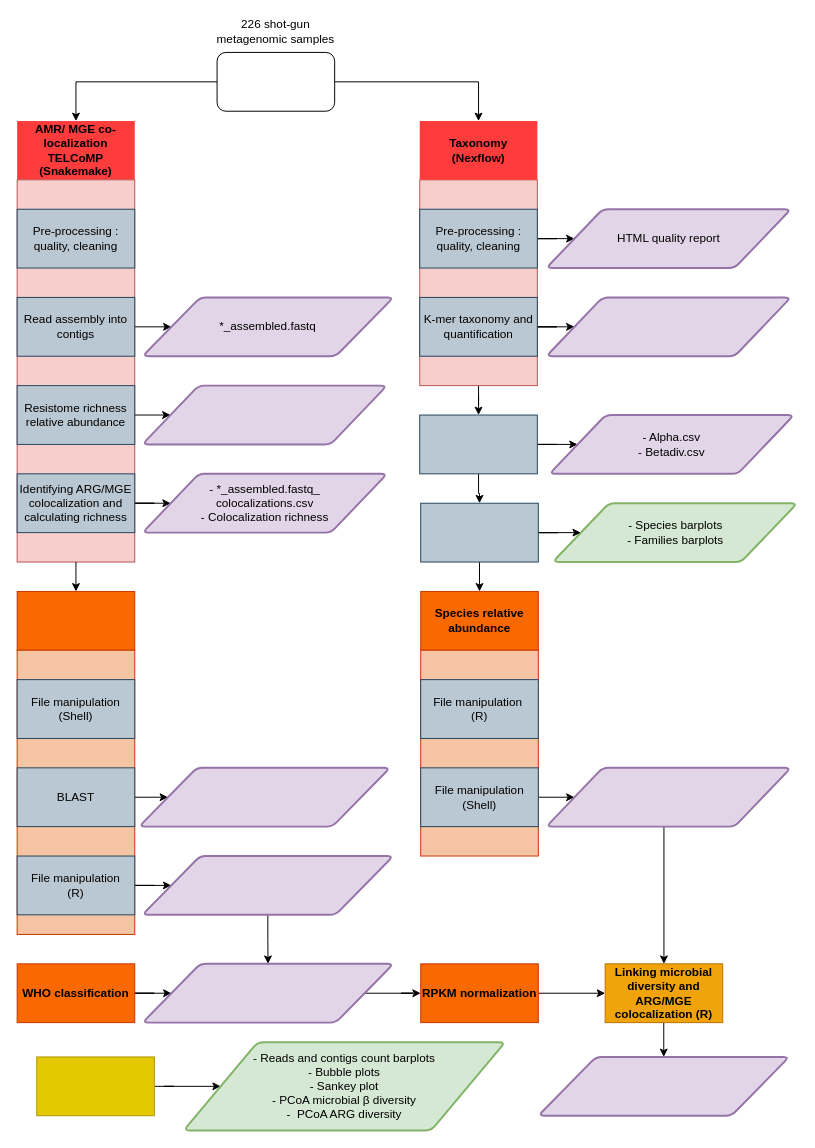
Some shapes in this 815 by 1148 pixel diagram are drawn without their labels. Each missing label, with the centre of its shape:
"- joint_relativ.csv - joint_norm.csv" goes at [663,1085].
"- Kraken report - Braken report - read_classified_kraken.csv" goes at [668,326].
"- Resistome Features (CSV) - Resistome Richness (CSV) - Mobilome (CSV)" goes at [264,414].
"- Species_relative_abundance.csv - Species_relative_abundance_norm.csv" goes at [668,796].
"all_sample_one_ARG_per_line.csv" goes at [267,885].
"all_samples_merged.csv" goes at [264,796].
"Barplots generation" goes at [479,532].
"contig_arg_classif.csv" goes at [267,992].
"Figure Generation" goes at [95,1086].
"Identifying species with ARG/MGEs colocalization" goes at [75,620].
"Paired Fastq Short-reads" goes at [275,81].
"ɑ and β microbial diversity" goes at [478,444].
